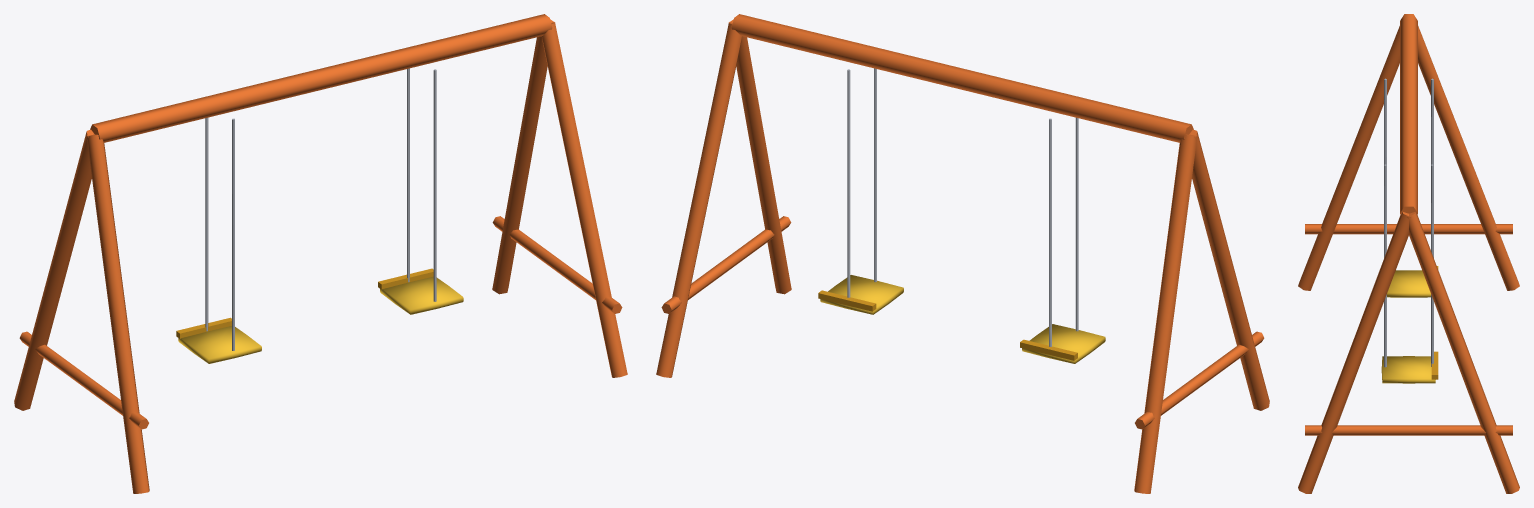
Rendered from swing.glb.
3 renders of one model, left to right at view 1: azimuth 30°, elevation 25°; view 2: azimuth 150°, elevation 25°; view 3: azimuth 270°, elevation 25°, orthographic. The views are drawn at different scales.
Visible parts, largest first — view 1: root; view 2: root; view 3: root.
Part boxes in pixels (x1,y1,x2,y2): root: (14, 14, 627, 493); root: (656, 14, 1269, 493); root: (1298, 14, 1519, 493).
Size of the model in its own units: 3.82 by 2.38 by 1.7.
